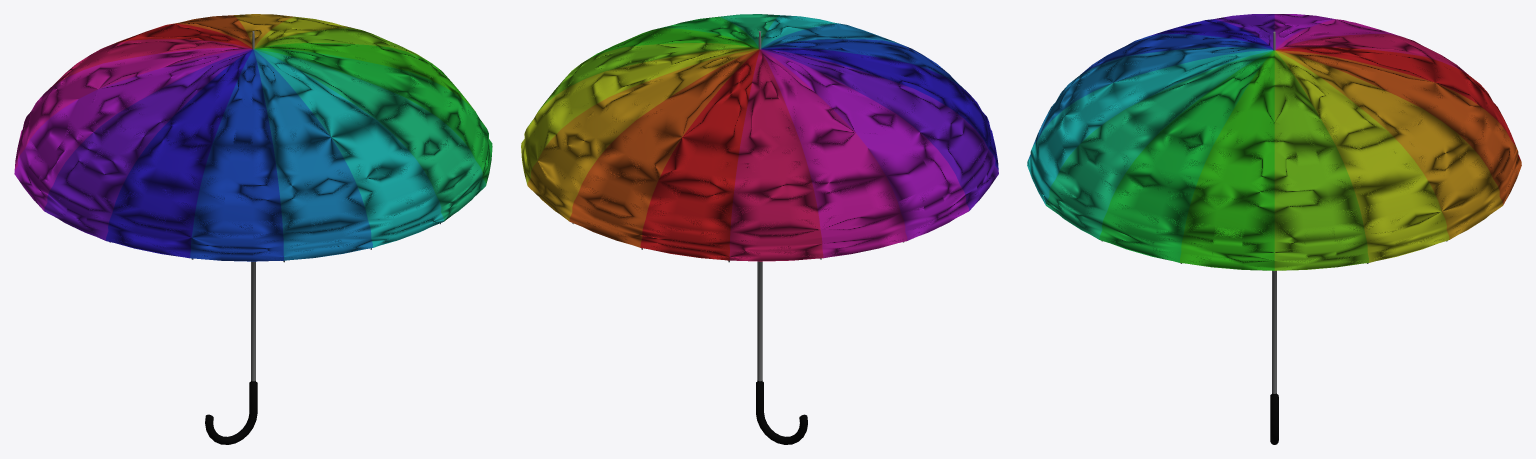
The model's file is colorfulUmbrella.obj.
3 renders of one model, left to right at view 1: azimuth 30°, elevation 25°; view 2: azimuth 150°, elevation 25°; view 3: azimuth 270°, elevation 25°, orthographic. The views are drawn at different scales.
Visible parts, largest first — view 1: r07, r08, r06, r09, r05, r10, r04, r11, r03, r12, r02, r13 (+6 smaller); view 2: r02, r01, r03, r16, r04, r15, r05, r14, r06, r13, r07, r12 (+6 smaller); view 3: r12, r13, r11, r14, r10, r15, r09, r16, r08, r01, r02, r07 (+5 smaller).
Part boxes in pixels (left/top/right/bottom): r07: left=190, top=49, right=283, bottom=261; r08: left=254, top=49, right=372, bottom=260; r06: left=106, top=49, right=252, bottom=258; r09: left=254, top=49, right=443, bottom=247; r05: left=44, top=49, right=252, bottom=240; r10: left=255, top=49, right=485, bottom=221; r04: left=14, top=49, right=251, bottom=210; r11: left=255, top=49, right=492, bottom=185; r03: left=14, top=47, right=251, bottom=169; r12: left=255, top=43, right=484, bottom=125; r02: left=45, top=39, right=251, bottom=92; r13: left=255, top=28, right=428, bottom=61; r02: left=729, top=50, right=823, bottom=261; r01: left=640, top=49, right=759, bottom=260; r03: left=760, top=49, right=907, bottom=258; r16: left=569, top=49, right=758, bottom=247; r04: left=761, top=49, right=968, bottom=240; r15: left=527, top=49, right=758, bottom=221; r05: left=761, top=49, right=998, bottom=210; r14: left=521, top=49, right=758, bottom=185; r06: left=762, top=47, right=998, bottom=169; r13: left=528, top=43, right=758, bottom=126; r07: left=761, top=39, right=966, bottom=91; r12: left=584, top=28, right=758, bottom=61; r12: left=1180, top=50, right=1274, bottom=270; r13: left=1274, top=51, right=1368, bottom=270; r11: left=1099, top=50, right=1273, bottom=262; r14: left=1275, top=50, right=1449, bottom=262; r10: left=1046, top=50, right=1272, bottom=239; r15: left=1276, top=50, right=1502, bottom=239; r09: left=1027, top=50, right=1272, bottom=205; r16: left=1276, top=50, right=1521, bottom=205; r08: left=1028, top=46, right=1272, bottom=160; r01: left=1276, top=46, right=1520, bottom=160; r02: left=1276, top=34, right=1468, bottom=74; r07: left=1080, top=34, right=1272, bottom=74.
Bounding box in the file's own units: 6.08 × 5.65 × 6.02.
